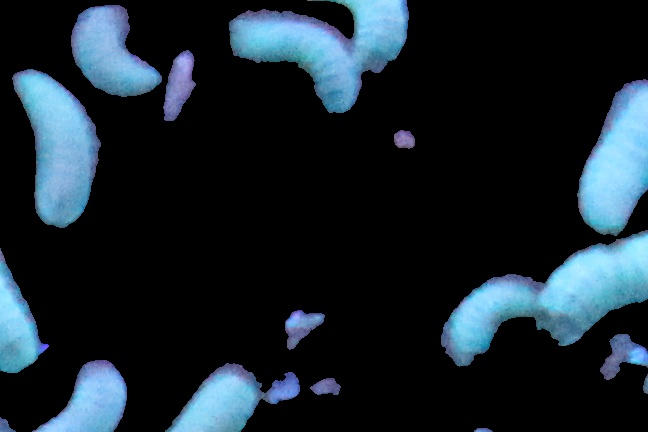larvae: (13, 67, 100, 228), (227, 12, 361, 113), (532, 234, 648, 346), (575, 75, 648, 231), (71, 6, 161, 94), (449, 272, 528, 370), (39, 357, 131, 432), (319, 1, 408, 73), (178, 363, 261, 432), (1, 242, 39, 369)
